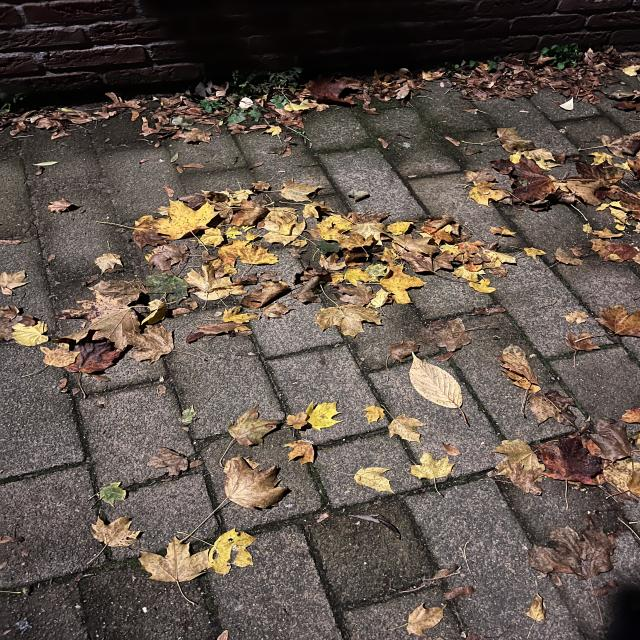leaves: (462, 142, 640, 220), (0, 295, 156, 378), (170, 202, 452, 245), (496, 428, 640, 499), (207, 449, 290, 517), (326, 250, 404, 320), (155, 535, 255, 577), (402, 354, 466, 409), (73, 506, 143, 554)
weed: (218, 60, 281, 92), (544, 29, 589, 73), (451, 42, 517, 71), (220, 104, 275, 134), (148, 270, 191, 302), (269, 69, 292, 108), (205, 100, 220, 116)
